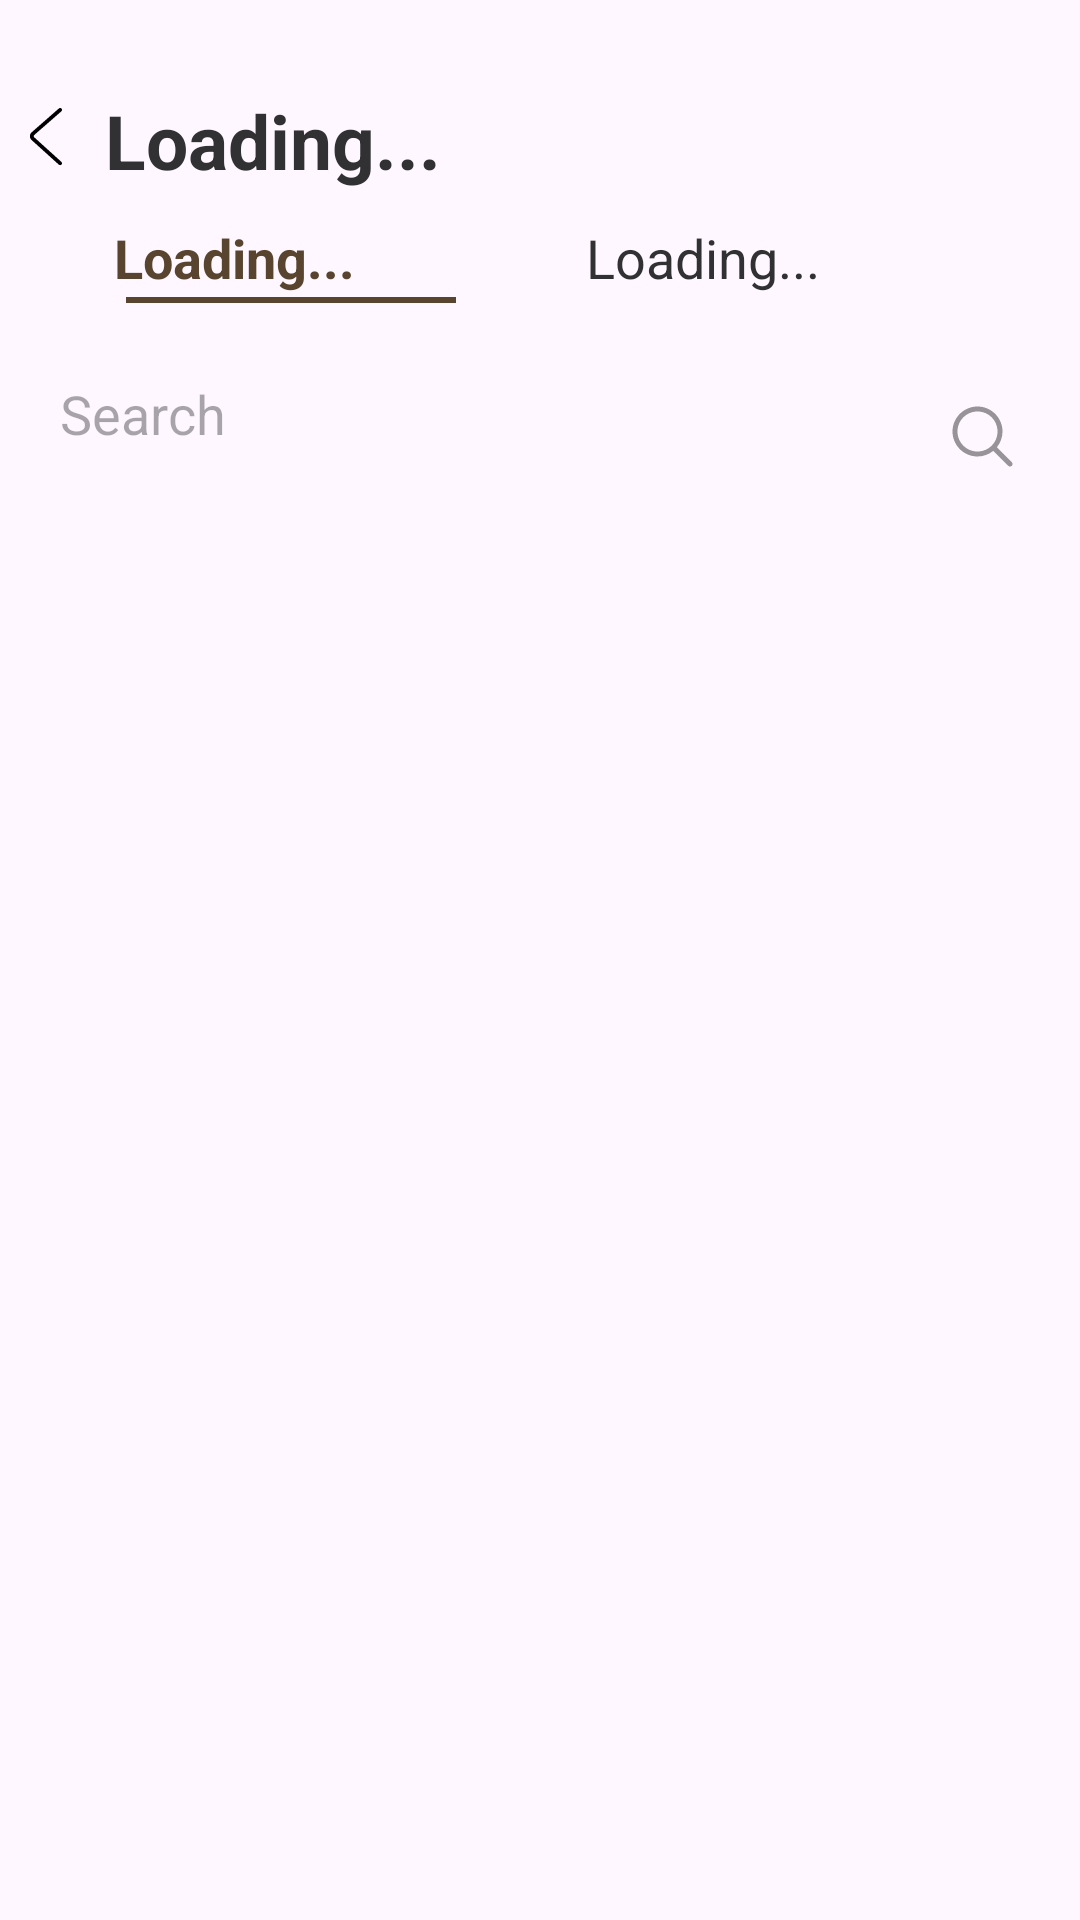

Screen size 1080×1920. Icon name, then its box in pixels as bbox(x1, y1, x2, y2):
back: bbox(30, 108, 62, 165)
